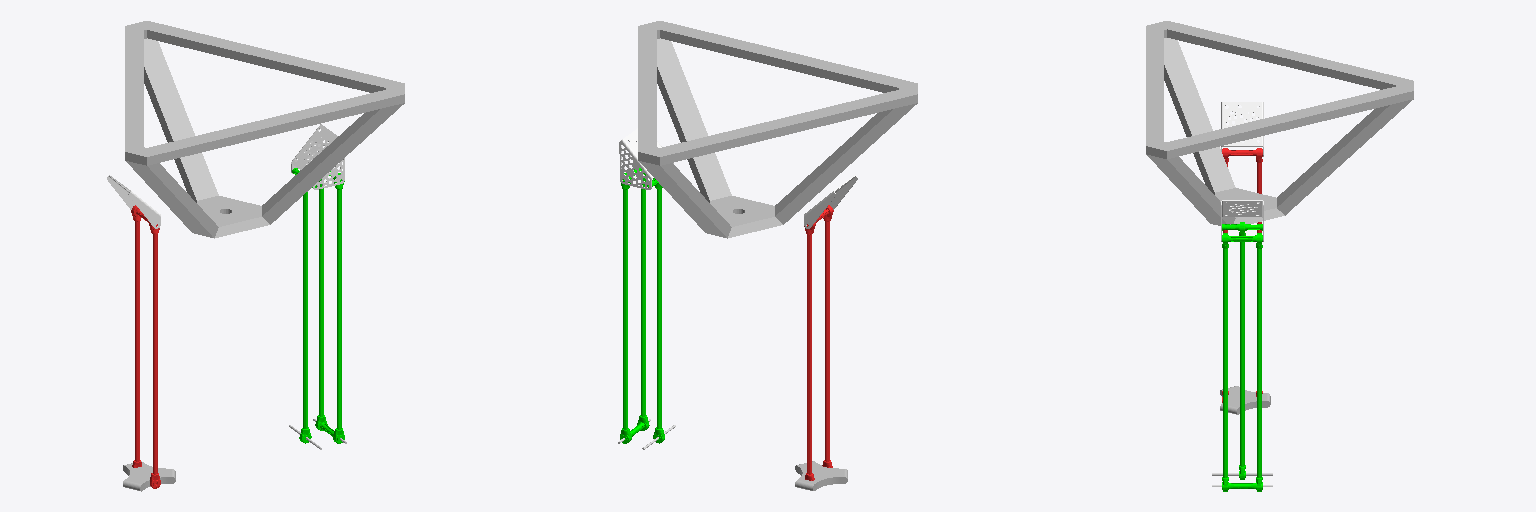
URDF robot description (delta_robot):
<?xml version="1.0"?>
<robot name="delta_robot">

    <!-- RAILS -->
    <link name="rails_link">

        <visual>
            <origin xyz="0 0 0"/>
            <geometry>
                <mesh filename="package://deltarobot_description/meshes/rails.stl"/>
            </geometry>
            <material name="gray">
              <color rgba="0.8 0.8 0.8 1"/>
            </material>
        </visual>
        <collision>
            <origin xyz="0 0 9" rpy="0 0 0"/>
            <geometry>
                <mesh filename="package://deltarobot_description/meshes/carriage_1.stl" scale="0.9 1.5 0.9"/>
            </geometry>
        </collision>
    </link>
    <!-- RAILS END-->

    <!-- END EFFECTOR -->
    <link name="end_effector_link">
        <visual>
            <origin xyz="0 0 0"/>
            <geometry>
                <mesh filename="package://deltarobot_description/meshes/end_effector.stl"/>
            </geometry>
            <material name="gray">
              <color rgba="0.8 0.8 0.8 1"/>
            </material>
        </visual>
    </link>

    <!-- <joint name="end_effector_joint" type="revolute">
        <origin xyz="0 0. -450" rpy="0 0 0"/>
        <parent link="rod_1_link"/>
        <child link="end_effector_link"/>
        <axis xyz="0 1 0"/>
        <limit lower="60" upper="350" velocity="0" effort="0"/> 
    </joint> -->
    <!-- END EFFECTOR END-->



    <!-- CARRIAGE 1 -->
    <link name="carriage_1_link">

        <visual>
            <origin xyz="0. 0. 0."/>
            <geometry>
                <mesh filename="package://deltarobot_description/meshes/carriage_1.stl"/>
            </geometry>
            <material name="white">
              <color rgba="1. 1. 1. 1."/>
            </material>
        </visual>

    </link>

    <joint name="carriage_1_joint" type="prismatic">
        <origin xyz="0. 0. 0." rpy="0 0 0"/>
        <parent link="rails_link"/>
        <child link="carriage_1_link"/>
        <axis xyz="-1 0 1"/>
        <limit lower="60" upper="350" velocity="0" effort="0"/> 
    </joint>
    <!-- CARRIAGE 1 END-->

    <!-- ROD 1 -->
    <link name="rod_1_link">

        <visual>
            <origin xyz="0 0 0" rpy="0 0 0"/>
            <geometry>
                <mesh filename="package://deltarobot_description/meshes/link_1.stl"/>
            </geometry>
            <material name="red">
              <color rgba="1. 0.2 0.2 1."/>
            </material>
        </visual>
        <collision>
            <origin xyz="0 0 0" rpy="0 0 0"/>
            <geometry>
                <mesh filename="package://deltarobot_description/meshes/link_1.stl"/>
            </geometry>
        </collision>

    </link>

    <joint name="rod_1_joint" type="revolute">
        <origin xyz="0. 0. 0." rpy="0 0 0"/>
        <parent link="carriage_1_link"/>
        <child link="rod_1_link"/>
        <axis xyz="0 -1 0"/>
        <limit lower="0" upper="6.28" velocity="0" effort="0"/> 
    </joint>

    <!-- <link name="rod_1_end-effector_link">
        <visual>
            <origin xyz="0 0 0" rpy="0 0 0"/>
            <geometry>
                <mesh filename="package://deltarobot_description/meshes/end-effector_joint.stl"/>
            </geometry>
            <material name="dark_grey">
                <color rgba="0.9 0.9 0.9 1"/>
            </material>
        </visual>
    </link> -->

    <joint name="rod_1_end-effector_joint" type="revolute">
        <origin xyz="0 0 -450"/>
        <parent link="rod_1_link"/>
        <child link="end_effector_link"/>
        <axis xyz="0 1 0"/>
        <limit lower="0" upper="6.28" velocity="0" effort="0"/>
    </joint>
    <!-- ROD 1 END-->




    <!-- CARRIAGE 2 -->
    <link name="carriage_2_link">

        <visual>
            <origin xyz="0. 0. 0."/>
            <geometry>
                <mesh filename="package://deltarobot_description/meshes/carriage_2.stl"/>
            </geometry>
            <material name="white">
              <color rgba="1. 1. 1. 1."/>
            </material>
        </visual>

    </link>

    <joint name="carriage_2_joint" type="prismatic">
        <origin xyz="0. 0. 0." rpy="0 0 0"/>
        <parent link="rails_link"/>
        <child link="carriage_2_link"/>
        <axis xyz="1 0 1"/>
        <limit lower="60" upper="350" velocity="0" effort="0"/> 
    </joint>
    <!-- CARRIAGE 2 END-->

    <!-- ROD 2 -->
    <link name="rod_2_link">

        <visual>
            <origin xyz="0 0 0" rpy="0 0 0"/>
            <geometry>
                <mesh filename="package://deltarobot_description/meshes/link_2.stl"/>
            </geometry>
            <material name="green">
              <color rgba="0 1 0 1"/>
            </material>
        </visual>
        <collision>
            <origin xyz="0 0 0" rpy="0 0 0"/>
            <geometry>
                <mesh filename="package://deltarobot_description/meshes/link_2.stl"/>
            </geometry>
        </collision>

    </link>

    <joint name="rod_2_joint" type="revolute">
        <origin xyz="0 0 0" rpy="0 0 0"/>
        <parent link="carriage_2_link"/>
        <child link="rod_2_link"/>
        <axis xyz="0 1 0"/>
        <limit lower="0" upper="6.28" velocity="0" effort="0"/> 
    </joint>

    <link name="rod_2_end-effector_link">
        <visual>
            <origin xyz="0 0 0" rpy="0 0 0"/>
            <geometry>
                <mesh filename="package://deltarobot_description/meshes/end-effector_joint.stl"/>
            </geometry>
            <material name="dark_grey">
                <color rgba="0.9 0.9 0.9 1"/>
            </material>
        </visual>
    
    </link>

    <joint name="rod_2_end-effector_joint" type="fixed">
        <origin xyz="0 0 -450"/>
        <parent link="rod_2_link"/>
        <child link="rod_2_end-effector_link"/>
    </joint>
    <!-- ROD 2 END-->


    <!-- ROD 3 -->
    <link name="rod_3_link">
        <visual>
            <origin xyz="0 0 0" rpy="0 0 0"/>
            <geometry>
                <mesh filename="package://deltarobot_description/meshes/link_1_c2.stl"/>
            </geometry>
            <material name="green">
              <color rgba="0 1 0 1"/>
            </material>
        </visual>
    </link>

    <joint name="rod_3_joint" type="revolute">
        <origin xyz="45 0 0" rpy="0 0 0"/>
        <parent link="carriage_2_link"/>
        <child link="rod_3_link"/>
        <axis xyz="0 1 0"/>
        <limit lower="0" upper="6.28" velocity="0" effort="0"/> 
    </joint>

    <link name="rod_3_end-effector_link">
        <visual>
            <origin xyz="0 0 0" rpy="0 0 0"/>
            <geometry>
                <mesh filename="package://deltarobot_description/meshes/end-effector_joint.stl"/>
            </geometry>
            <material name="dark_grey">
                <color rgba="0.9 0.9 0.9 1"/>
            </material>
        </visual>
    
    </link>

    <joint name="rod_3_end-effector_joint" type="fixed">
        <origin xyz="0 0 -450"/>
        <parent link="rod_3_link"/>
        <child link="rod_3_end-effector_link"/>
    </joint>
    <!-- ROD 3 END-->

</robot>

--- Facts derived from the render (not from the file) ---
Views: 3 orthographic renders of the robot side by side, from view 1: azimuth 30°, elevation 25°; view 2: azimuth 150°, elevation 25°; view 3: azimuth 270°, elevation 25°.
Model delta_robot with 9 links and 8 joints (4 revolute, 2 prismatic, 2 fixed), rooted at rails_link, posed all joints at 0 but 2 set to mid-range because 0 is outside their limits (carriage_1_joint = 205, carriage_2_joint = 205).
Visible links, largest first — view 1: rails_link, rod_1_link, rod_3_link, rod_2_link, carriage_2_link, end_effector_link, carriage_1_link; view 2: rails_link, rod_3_link, rod_1_link, rod_2_link, carriage_2_link, end_effector_link, carriage_1_link; view 3: rails_link, rod_3_link, rod_2_link, carriage_1_link, carriage_2_link, end_effector_link, rod_1_link.
Boxes of the visible links, x1,y1,x2,y2 form: rails_link: (125,21,404,238); rod_1_link: (131,205,160,488); rod_3_link: (315,171,344,443); rod_2_link: (292,168,316,443); carriage_2_link: (291,124,344,189); end_effector_link: (123,461,175,491); carriage_1_link: (107,175,160,228); rails_link: (638,21,917,238); rod_3_link: (620,168,649,443); rod_1_link: (804,205,833,480); rod_2_link: (647,178,664,443); carriage_2_link: (619,128,673,189); end_effector_link: (795,461,847,490); carriage_1_link: (804,175,857,228); rails_link: (1146,21,1413,225); rod_3_link: (1222,233,1262,491); rod_2_link: (1222,222,1262,479); carriage_1_link: (1221,102,1263,156); carriage_2_link: (1221,200,1263,241); end_effector_link: (1220,386,1270,414); rod_1_link: (1222,148,1262,402).
Size in the robot's own frame: 510 by 442 by 649 metres.
9 mesh visuals loaded from 8 distinct referenced files (8 binary STL).
